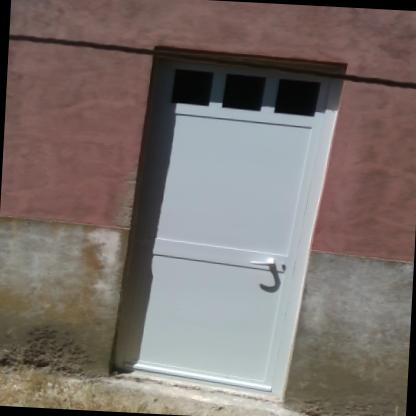closed: (103, 33, 348, 416)
